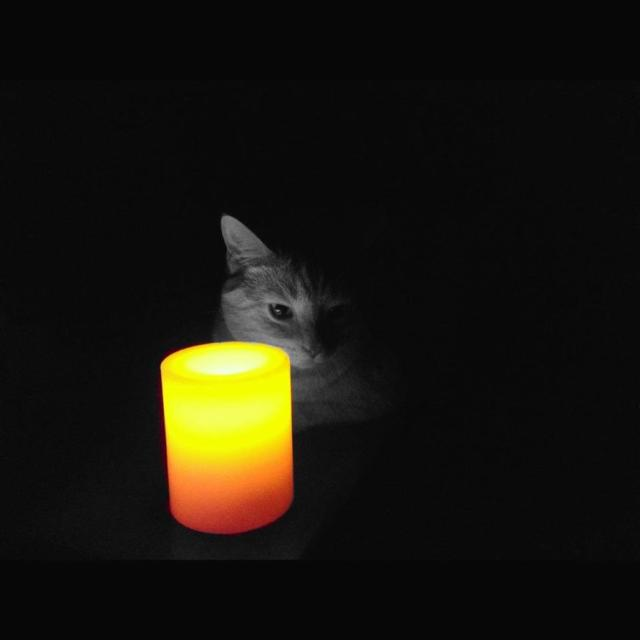Cat: (201, 194, 452, 446)
